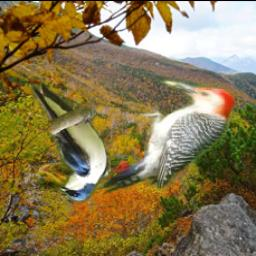Swallow: (30, 83, 111, 202)
Woodpecker: (89, 75, 235, 197)
